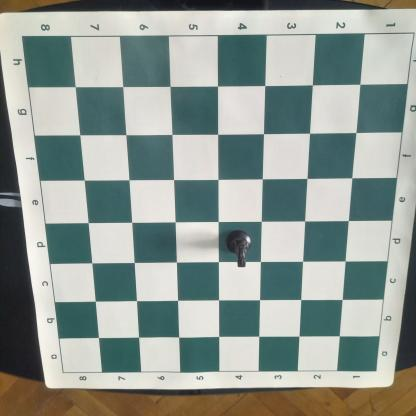black-knight: (226, 229, 254, 268)
